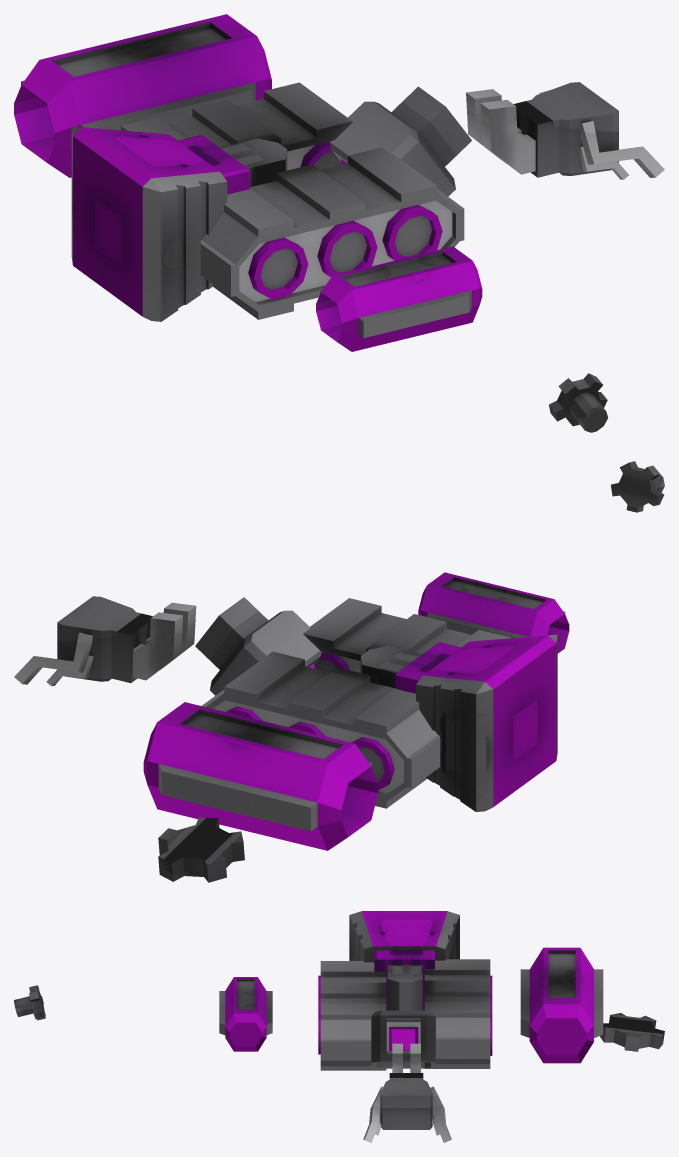
The model's file is Enemy2_Die35.obj.
3 views of the same model, one above another, from view 1: azimuth 30°, elevation 25°; view 2: azimuth 150°, elevation 25°; view 3: azimuth 270°, elevation 25° (orthographic). The views are drawn at different scales.
Visible parts, largest first — view 1: Object006, Object013, Object011, Object014, Object010, Object012, Object008; view 2: Object011, Object006, Object013, Object010, Object014, Object012, Object009, Object008; view 3: Object006, Object011, Object013, Object010, Object014, Object012, Object009, Object008.
Part boxes in pixels (left/top/right/bottom): Object006: left=121, top=82, right=464, bottom=319; Object013: left=71, top=126, right=287, bottom=321; Object011: left=14, top=14, right=271, bottom=177; Object014: left=316, top=246, right=482, bottom=351; Object010: left=466, top=82, right=664, bottom=179; Object012: left=330, top=86, right=471, bottom=196; Object008: left=549, top=373, right=607, bottom=432; Object011: left=143, top=702, right=378, bottom=850; Object006: left=202, top=598, right=510, bottom=808; Object013: left=360, top=634, right=557, bottom=811; Object010: left=14, top=596, right=196, bottom=686; Object014: left=418, top=572, right=569, bottom=653; Object012: left=195, top=597, right=322, bottom=695; Object009: left=158, top=817, right=244, bottom=882; Object008: left=611, top=461, right=664, bottom=512; Object006: left=318, top=959, right=492, bottom=1070; Object011: left=520, top=947, right=603, bottom=1063; Object013: left=349, top=911, right=459, bottom=1010; Object010: left=363, top=1043, right=451, bottom=1142; Object014: left=219, top=977, right=272, bottom=1051; Object012: left=371, top=1010, right=435, bottom=1068; Object009: left=600, top=1013, right=664, bottom=1051; Object008: left=14, top=985, right=45, bottom=1020.
Size of the model in its own units: 196 by 50.77 by 341.
